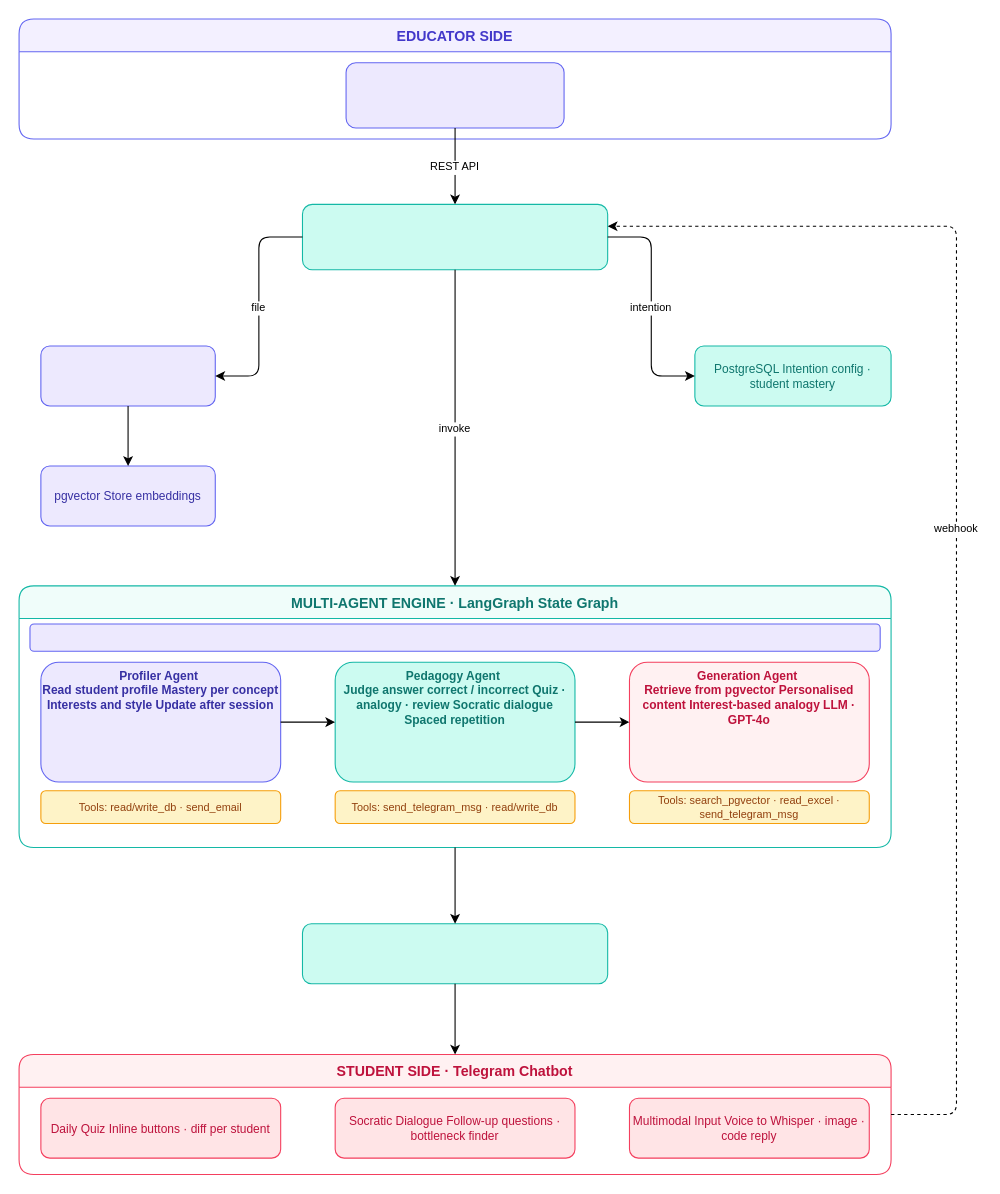
Image size: 1000x1194. Some labels were removed from this diagram. The shapes that lost their labels are listed below. From the top down, each one's centre as x and y in pixels, then its label:
[454,95]: Dashboard Upload PDF / Excel Set course intention
[454,236]: FastAPI Backend Central hub · routing · auth · webhooks
[127,375]: LlamaIndex Parse and chunk files
[454,637]: All agents loaded from system messages
[454,953]: Weekly Scheduler Auto check-in · push review · trigger quiz
